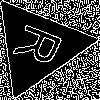R: (12, 21, 73, 72)
